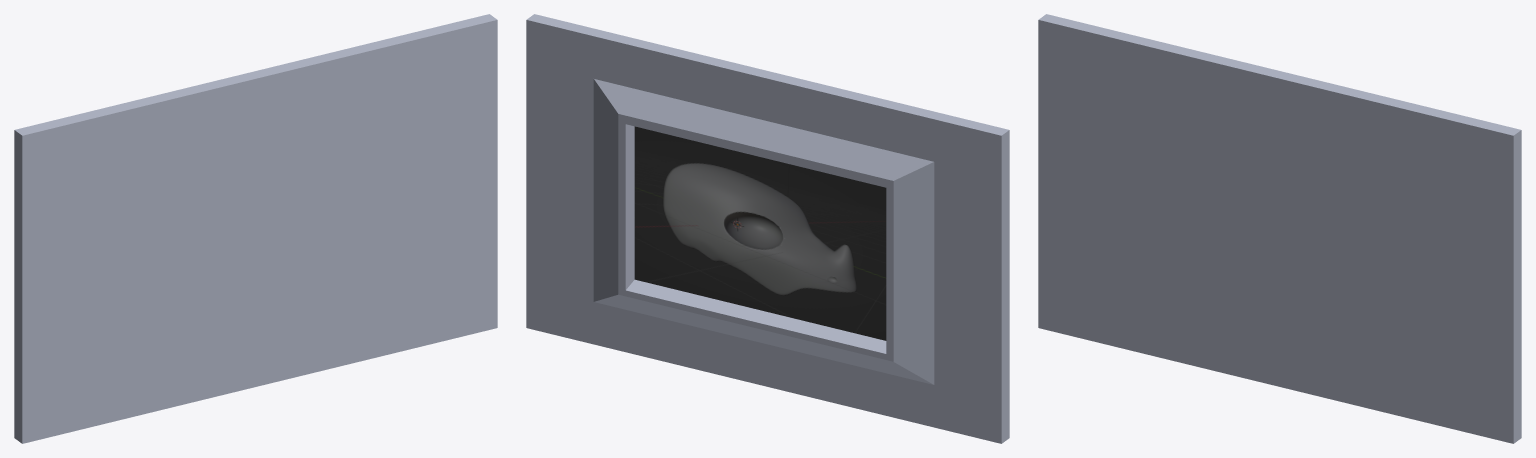
File: Skull_Art.fbx
3 views of the same model, side by side, from view 1: azimuth 30°, elevation 25°; view 2: azimuth 150°, elevation 25°; view 3: azimuth 330°, elevation 25° (orthographic).
Visible parts, largest first — view 1: Blank.001; view 2: Blank.001, Image.018; view 3: Blank.001.
Part boxes in pixels (x1,y1,x2,y2): Blank.001: (14,14,497,443); Blank.001: (526,14,1009,443); Image.018: (634,126,886,340); Blank.001: (1038,14,1521,443).
Size of the model in its own units: 2242 by 1389 by 131.
Materials: 2 (1 with a texture image).
